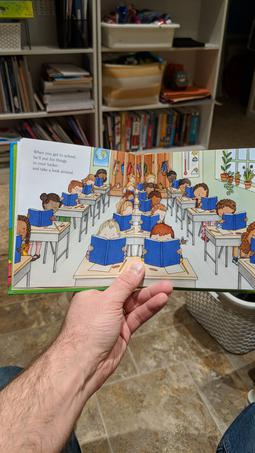text block: (24, 143, 80, 180)
